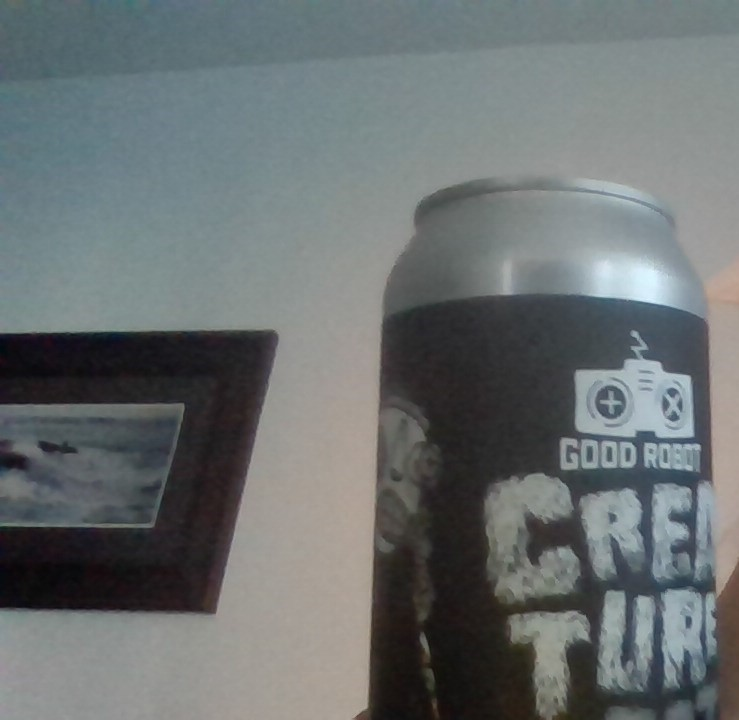Good Robot: (571, 326, 700, 445)
